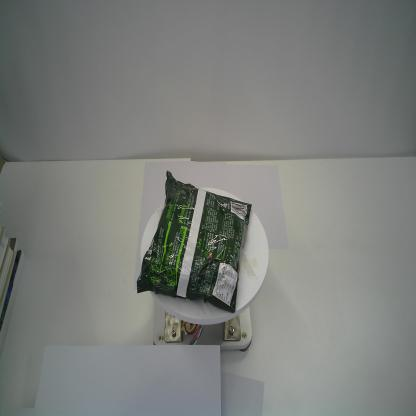Instant Noodles: (137, 169, 253, 314)
